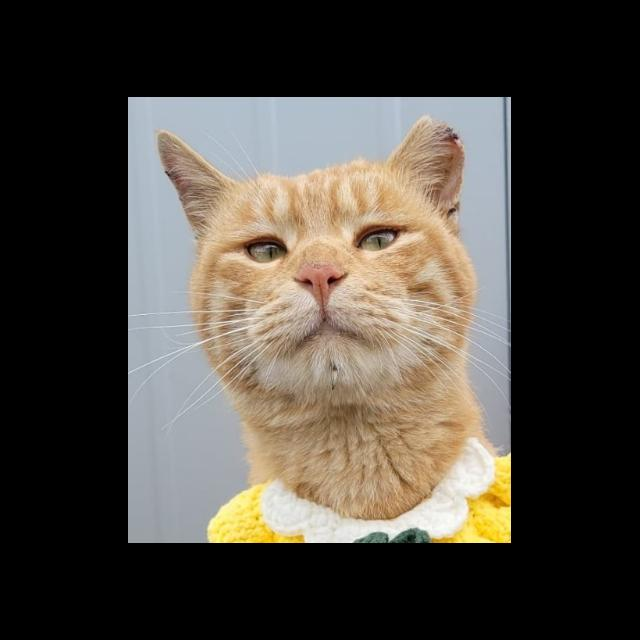animals: (144, 107, 473, 428)
